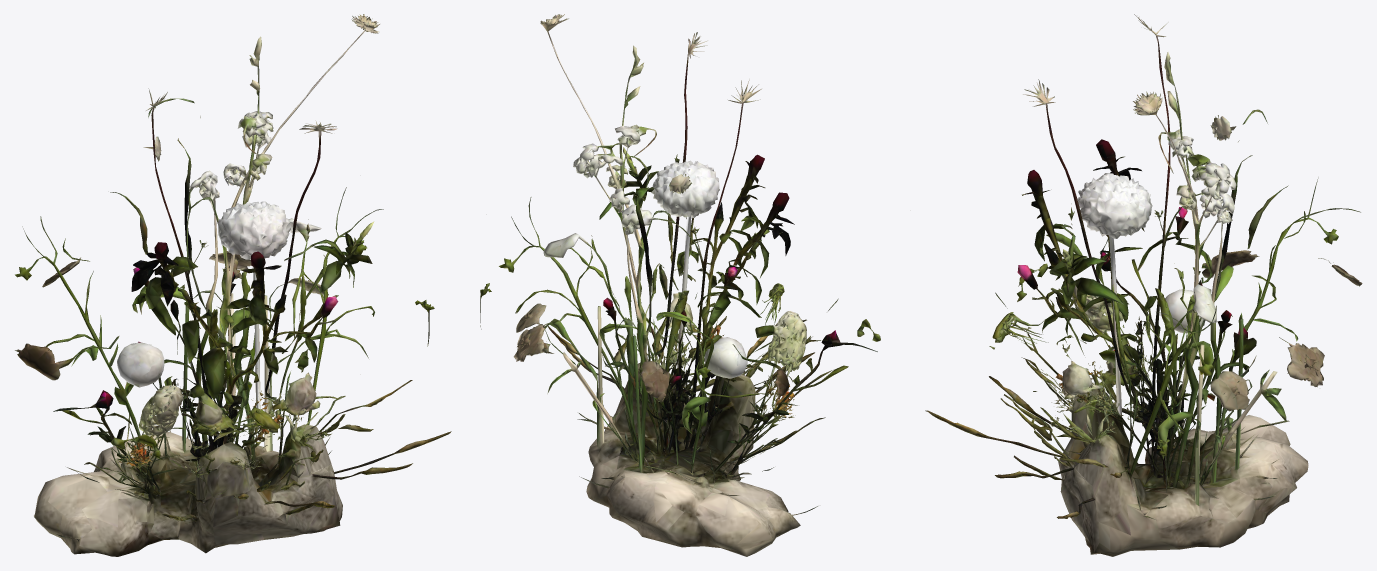
File: FauxFloraArrangement.glb
The picture shows the model from 3 angles, left to right: view 1: azimuth 30°, elevation 25°; view 2: azimuth 150°, elevation 25°; view 3: azimuth 270°, elevation 25°; orthographic projection. The views are drawn at different scales.
Parts seen in each view (by area): view 1: Meshy_AI_White_Cloud_Among_Tal_0509134926_texture; view 2: Meshy_AI_White_Cloud_Among_Tal_0509134926_texture; view 3: Meshy_AI_White_Cloud_Among_Tal_0509134926_texture.
Part boxes in pixels (bbox=[...]): Meshy_AI_White_Cloud_Among_Tal_0509134926_texture: bbox=[15, 14, 451, 556]; Meshy_AI_White_Cloud_Among_Tal_0509134926_texture: bbox=[480, 14, 880, 556]; Meshy_AI_White_Cloud_Among_Tal_0509134926_texture: bbox=[925, 14, 1362, 556].
Bounding box in the file's own units: 1.68 × 1.89 × 1.59.
Materials: 1 (1 with a texture image).
